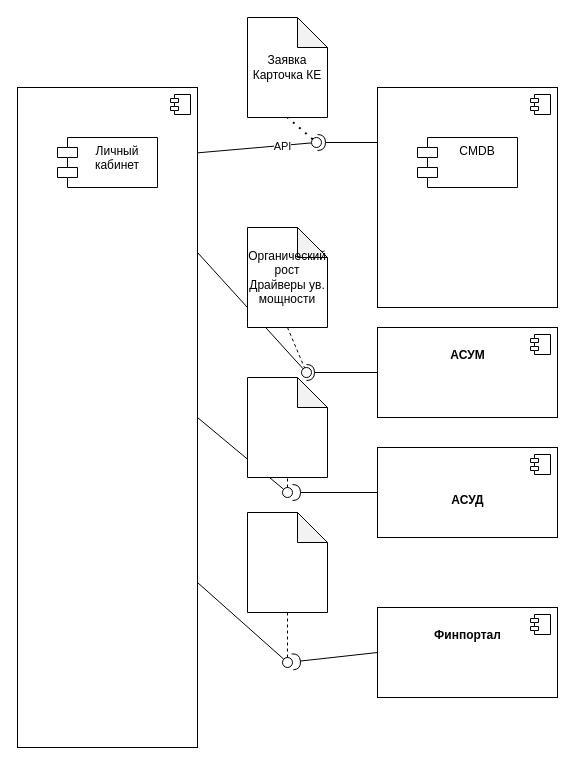
The diagram is 575 pixels wide and 765 high, and some of its shapes have lost their labels. The shapes that lost their labels are listed below. From the top down, each one's box as (x1, y1, x2, y2) in pixels, then its label:
(376, 86, 558, 308): MFSM
(16, 86, 198, 748): Портал Инфраструктуры
(246, 376, 328, 478): Перечень ИС Шаблон роли
